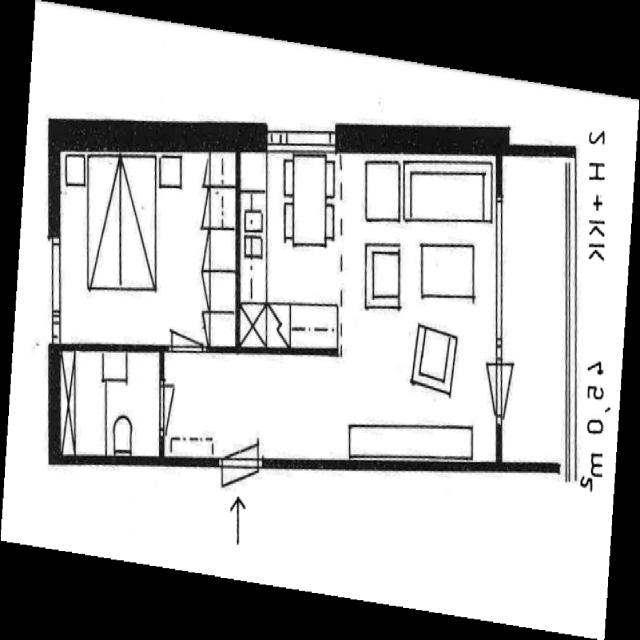door: (222, 458, 259, 526), (222, 400, 259, 468), (463, 364, 502, 416), (496, 364, 535, 416), (171, 296, 203, 354), (160, 385, 194, 432)
